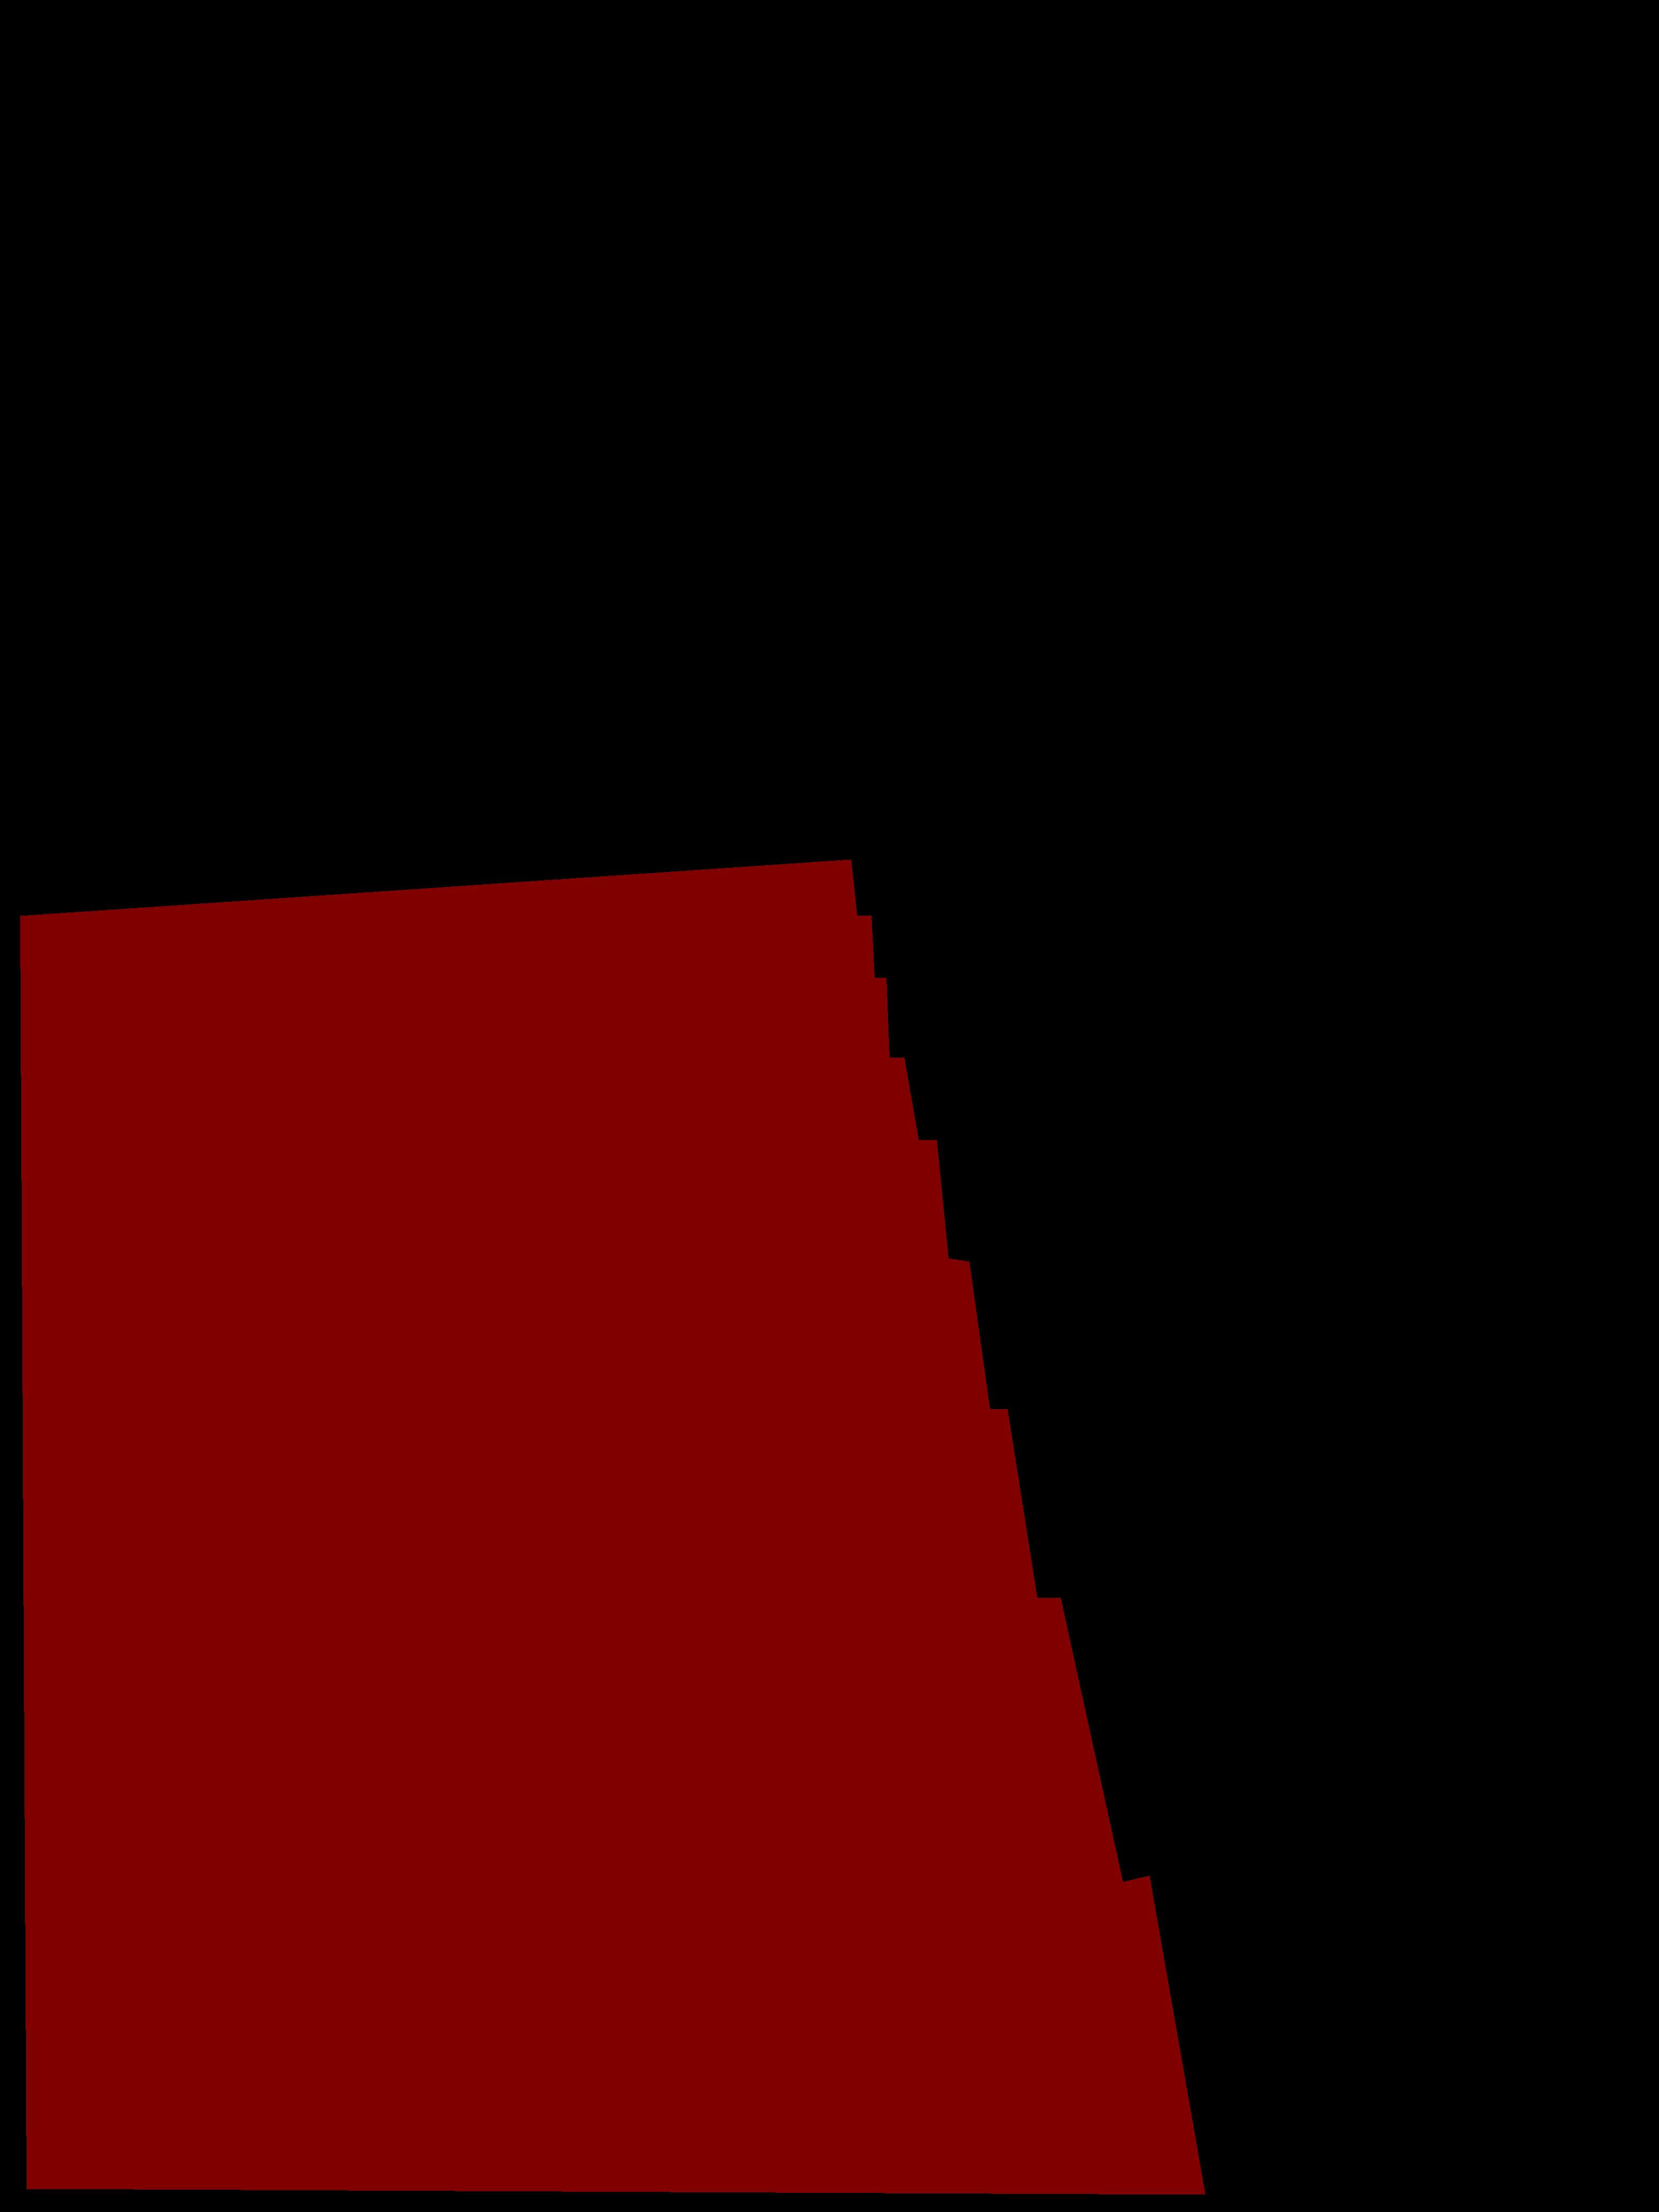stair: (21, 859, 1204, 2195)
